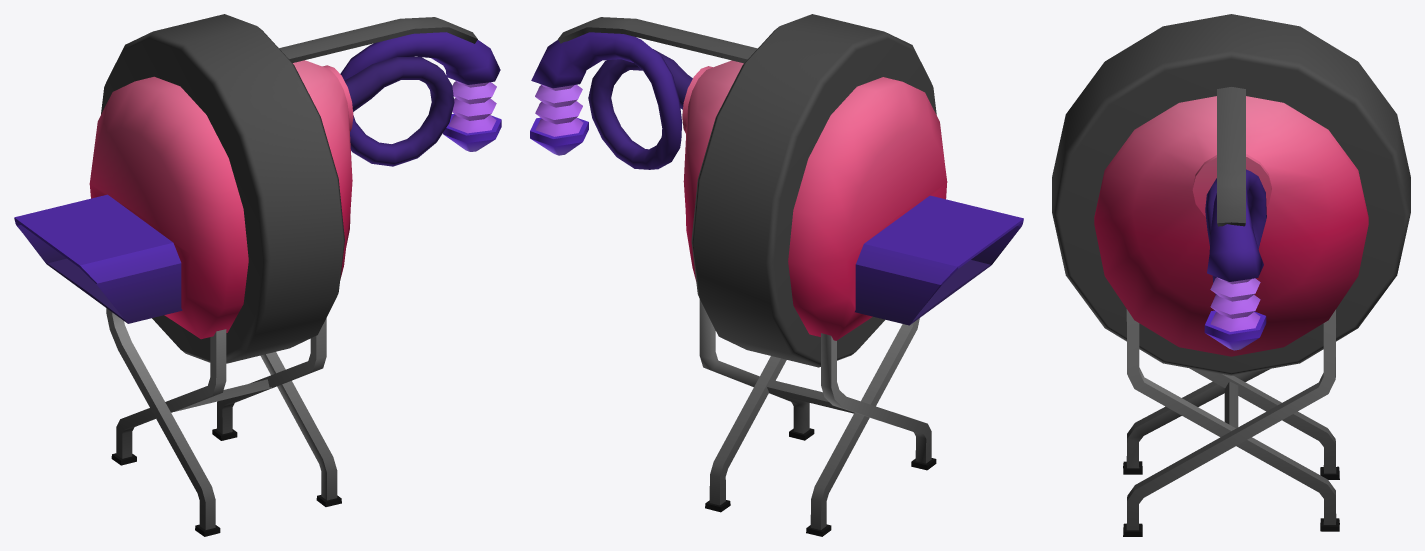
The model's file is part_Mixer_1.fbx.
3 views of the same model, side by side, from view 1: azimuth 30°, elevation 25°; view 2: azimuth 150°, elevation 25°; view 3: azimuth 270°, elevation 25° (orthographic). The views are drawn at different scales.
Parts seen in each view (by area): view 1: sm_Mixer_Body, sm_Tumbler, sm_Mixer_Nozzle; view 2: sm_Mixer_Body, sm_Tumbler, sm_Mixer_Nozzle; view 3: sm_Mixer_Body, sm_Tumbler, sm_Mixer_Nozzle.
Part boxes in pixels (x1,y1,x2,y2): sm_Mixer_Body: (14, 17, 500, 536); sm_Tumbler: (101, 14, 344, 363); sm_Mixer_Nozzle: (443, 80, 501, 151); sm_Mixer_Body: (531, 17, 1023, 536); sm_Tumbler: (691, 14, 936, 367); sm_Mixer_Nozzle: (530, 84, 588, 155); sm_Mixer_Body: (1094, 87, 1368, 536); sm_Tumbler: (1052, 14, 1410, 375); sm_Mixer_Nozzle: (1204, 277, 1266, 350).
Size of the model in its own units: 186 by 175 by 121.
